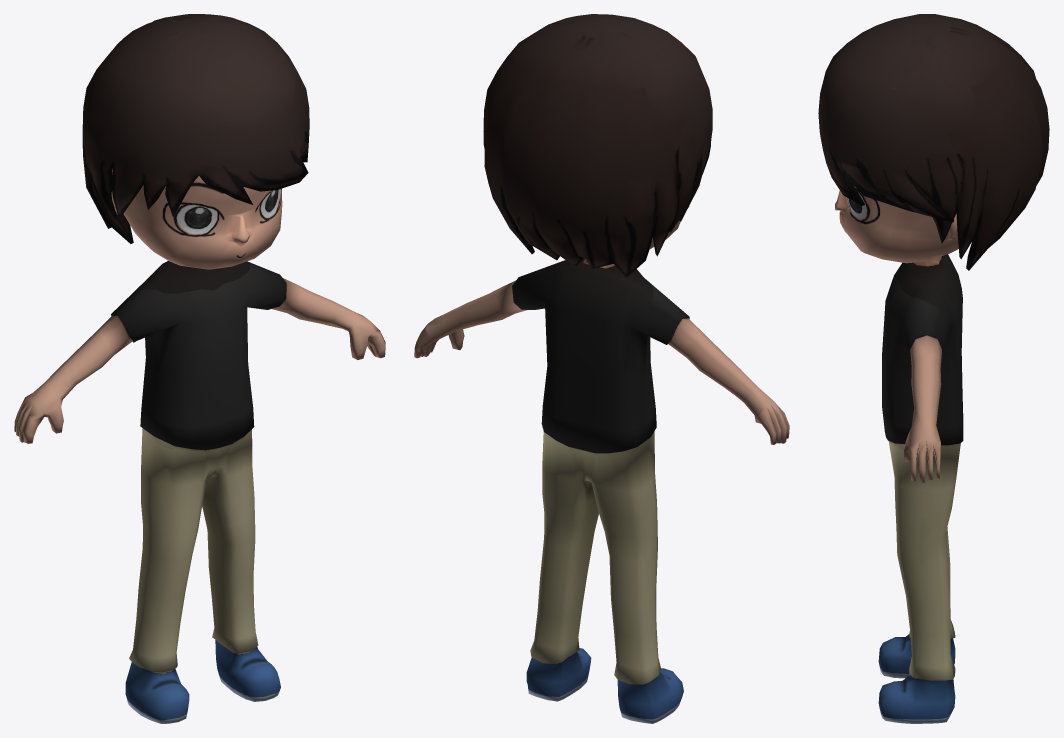
Rendered from BabyBo.glb.
3 views of the same model, side by side, from view 1: azimuth 30°, elevation 25°; view 2: azimuth 150°, elevation 25°; view 3: azimuth 270°, elevation 25° (orthographic).
Visible parts, largest first — view 1: BodyAll; view 2: BodyAll; view 3: BodyAll.
Boxes of the visible parts, x1,y1,x2,y2 form: BodyAll: (14,14,385,723); BodyAll: (414,14,789,723); BodyAll: (818,14,1049,723).
Bounding box in the file's own units: 3.68 × 6.47 × 2.04.
Materials: 2 (2 with a texture image).
